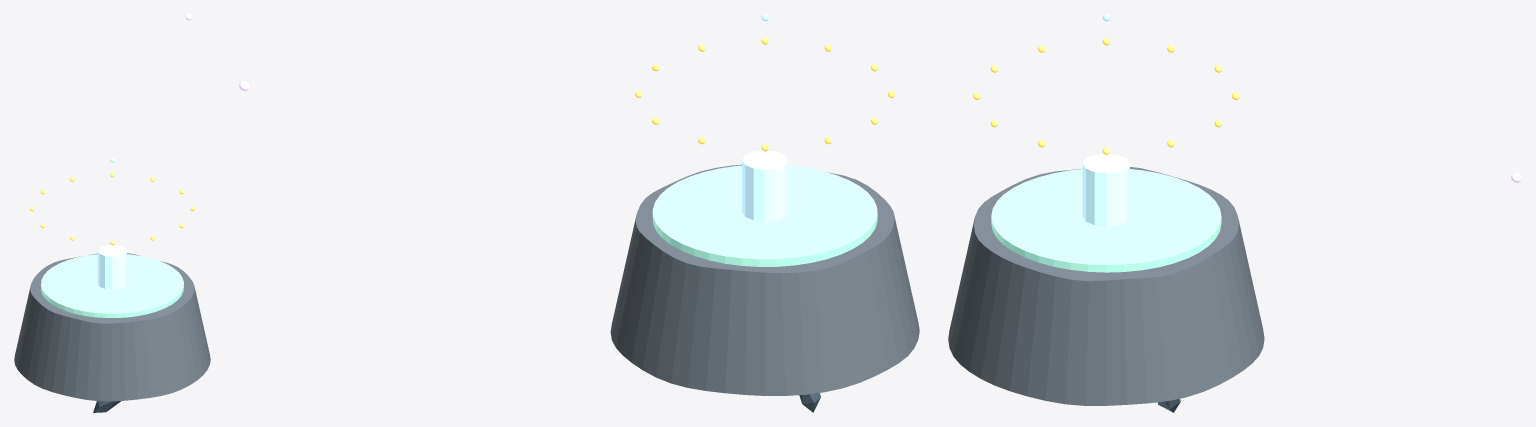
File: render.glb
3 views of the same model, side by side, from view 1: azimuth 30°, elevation 25°; view 2: azimuth 150°, elevation 25°; view 3: azimuth 270°, elevation 25° (orthographic). The views are drawn at different scales.
Visible parts, largest first — view 1: floating_island, playable_plateau, control_spire, shard_3; view 2: floating_island, playable_plateau, control_spire; view 3: floating_island, playable_plateau, control_spire.
Boxes of the visible parts, bbox=[...] form: floating_island: bbox=[14, 253, 210, 401]; playable_plateau: bbox=[41, 254, 183, 317]; control_spire: bbox=[97, 245, 127, 289]; shard_3: bbox=[93, 401, 120, 412]; floating_island: bbox=[610, 164, 919, 395]; playable_plateau: bbox=[652, 165, 877, 266]; control_spire: bbox=[742, 150, 788, 221]; floating_island: bbox=[948, 167, 1264, 405]; playable_plateau: bbox=[991, 169, 1221, 272]; control_spire: bbox=[1082, 154, 1129, 226].
Size of the model in its own units: 34.37 by 26.28 by 36.37.
